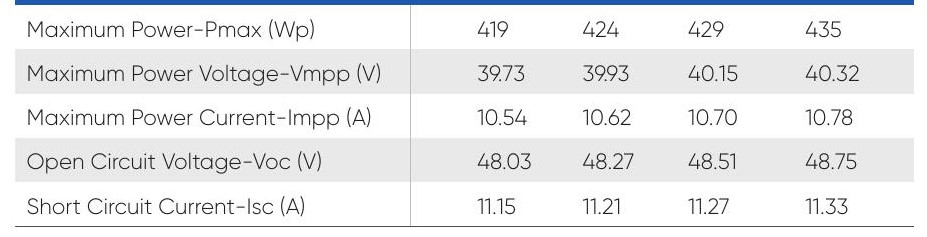table: (4, 1, 926, 235)
table column: (19, 3, 406, 231), (429, 2, 541, 231), (778, 3, 877, 231), (668, 2, 764, 230), (561, 2, 651, 229)
table row: (12, 7, 919, 51), (12, 55, 920, 95), (12, 141, 922, 179), (12, 100, 920, 136), (12, 188, 922, 223)
